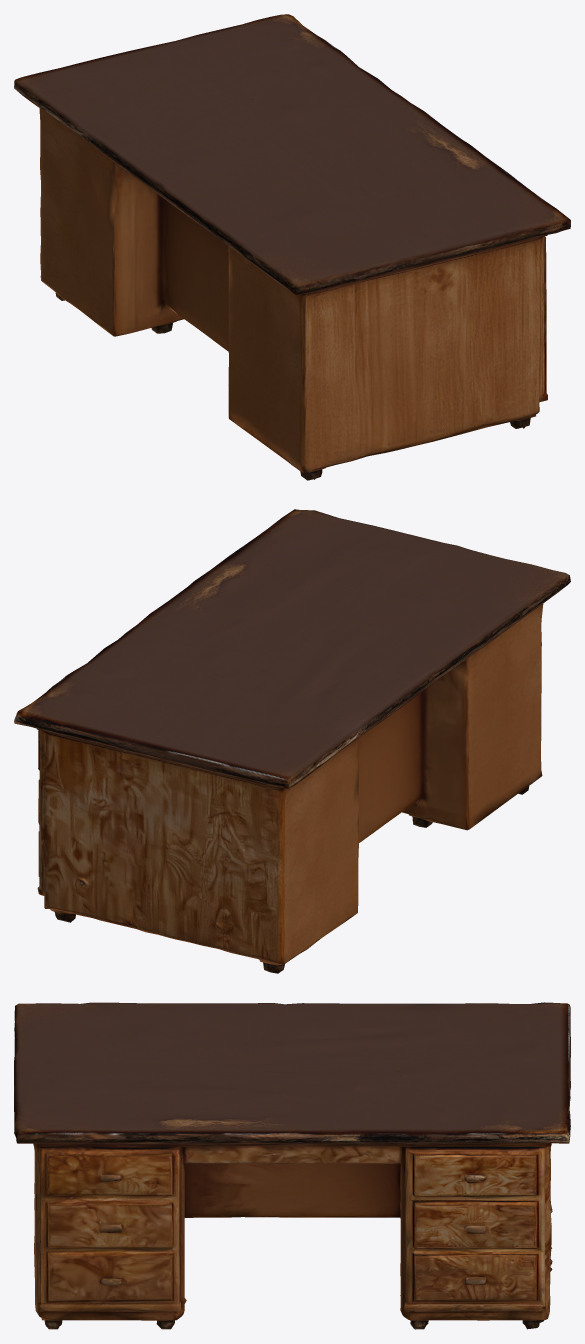
The picture shows the model from 3 angles, top to bottom: view 1: azimuth 30°, elevation 25°; view 2: azimuth 150°, elevation 25°; view 3: azimuth 270°, elevation 25°; orthographic projection. The views are drawn at different scales.
Parts seen in each view (by area): view 1: tripo_node_7fad3128-9255-42ce-bd35-3b0ea961c6a0; view 2: tripo_node_7fad3128-9255-42ce-bd35-3b0ea961c6a0; view 3: tripo_node_7fad3128-9255-42ce-bd35-3b0ea961c6a0.
Part boxes in pixels (x1,y1,x2,y2): tripo_node_7fad3128-9255-42ce-bd35-3b0ea961c6a0: [14, 14, 570, 480]; tripo_node_7fad3128-9255-42ce-bd35-3b0ea961c6a0: [14, 509, 570, 973]; tripo_node_7fad3128-9255-42ce-bd35-3b0ea961c6a0: [14, 1002, 570, 1329].
Size of the model in its own units: 0.5612 by 0.4191 by 1.
1 material, 1 textured.
